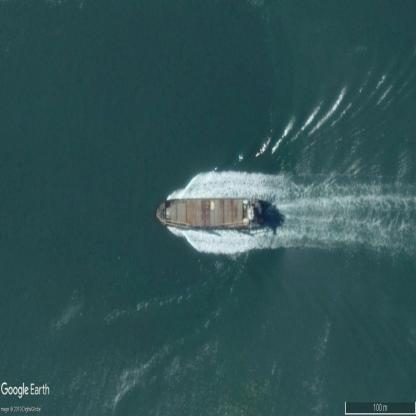ship: (156, 197, 263, 229)
